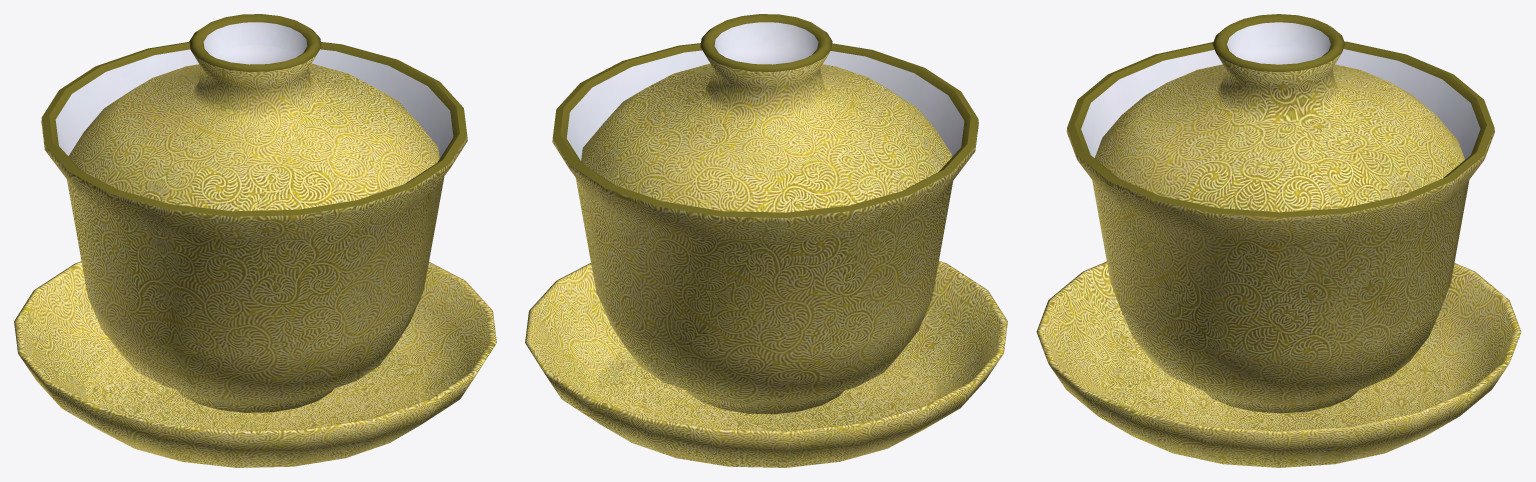
The model's file is wan05_02.FBX.
3 views of the same model, side by side, from view 1: azimuth 30°, elevation 25°; view 2: azimuth 150°, elevation 25°; view 3: azimuth 270°, elevation 25° (orthographic).
Visible parts, largest first — view 1: pCylinder008, pCylinder009, pCylinder010; view 2: pCylinder008, pCylinder009, pCylinder010; view 3: pCylinder008, pCylinder009, pCylinder010.
Boxes of the visible parts, x1,y1,x2,y2 form: pCylinder008: [41, 41, 467, 412]; pCylinder009: [68, 14, 439, 211]; pCylinder010: [14, 261, 496, 467]; pCylinder008: [552, 43, 978, 414]; pCylinder009: [581, 14, 951, 212]; pCylinder010: [525, 261, 1007, 467]; pCylinder008: [1066, 41, 1494, 413]; pCylinder009: [1095, 14, 1464, 212]; pCylinder010: [1036, 261, 1521, 467].
Bounding box in the file's own units: 119 × 101 × 119.
